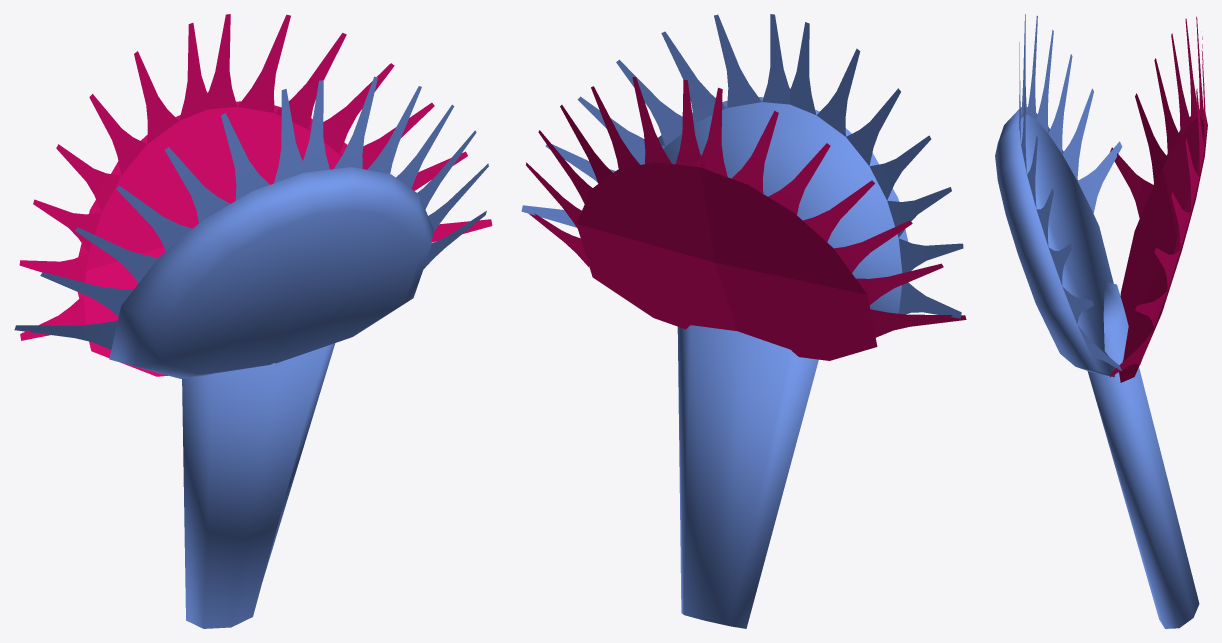
File: dongle_target.gltf
The picture shows the model from 3 angles, left to right: view 1: azimuth 30°, elevation 25°; view 2: azimuth 150°, elevation 25°; view 3: azimuth 270°, elevation 25°; orthographic projection. The views are drawn at different scales.
Visible parts, largest first — view 1: dongle_target, Cylinder.003; view 2: dongle_target, Cylinder.003; view 3: dongle_target, Cylinder.003.
Part boxes in pixels (x1,y1,x2,y2): dongle_target: [14, 14, 492, 378]; Cylinder.003: [182, 343, 335, 628]; dongle_target: [521, 14, 966, 360]; Cylinder.003: [677, 325, 818, 628]; dongle_target: [995, 14, 1207, 382]; Cylinder.003: [1087, 281, 1199, 628].
Size of the model in its own units: 0.5793 by 0.6986 by 0.2318.
